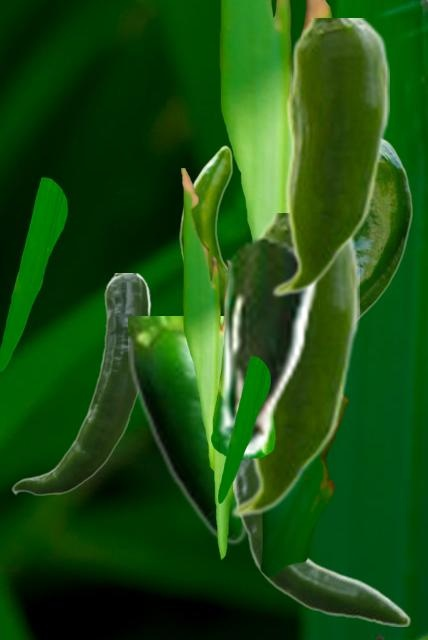green_chili: (179, 139, 412, 319), (229, 213, 358, 518), (270, 18, 388, 297), (11, 273, 150, 495), (233, 459, 410, 625), (128, 316, 246, 544), (213, 235, 318, 457)
